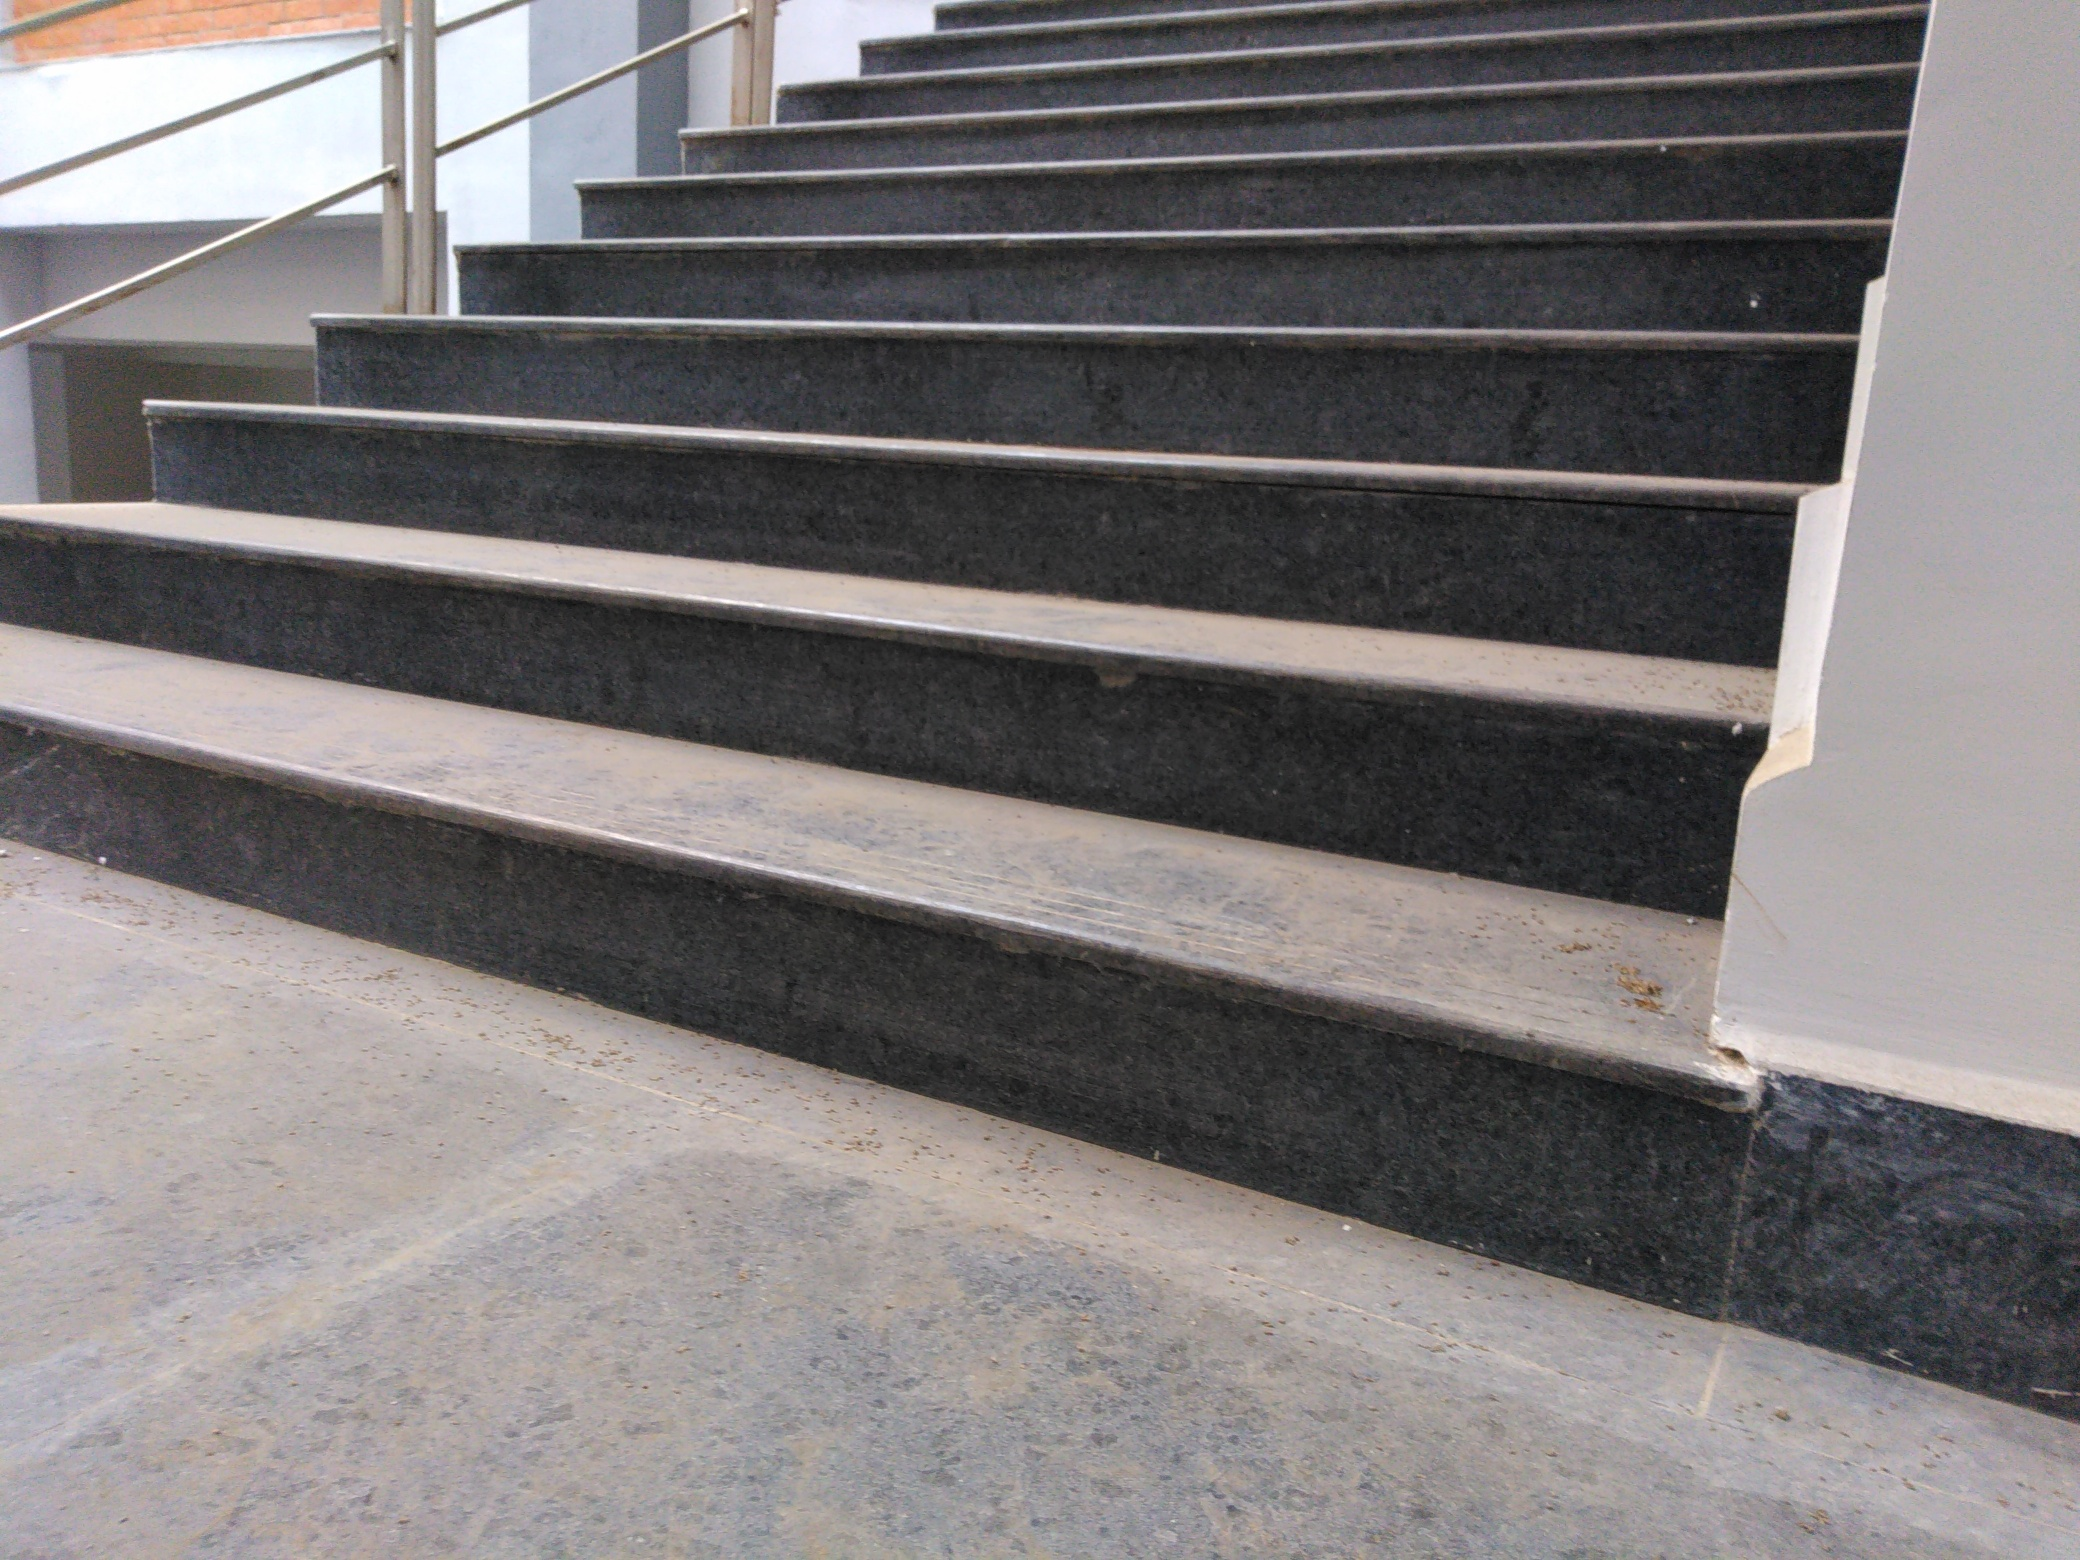stairs_up: (54, 34, 1839, 1100)
